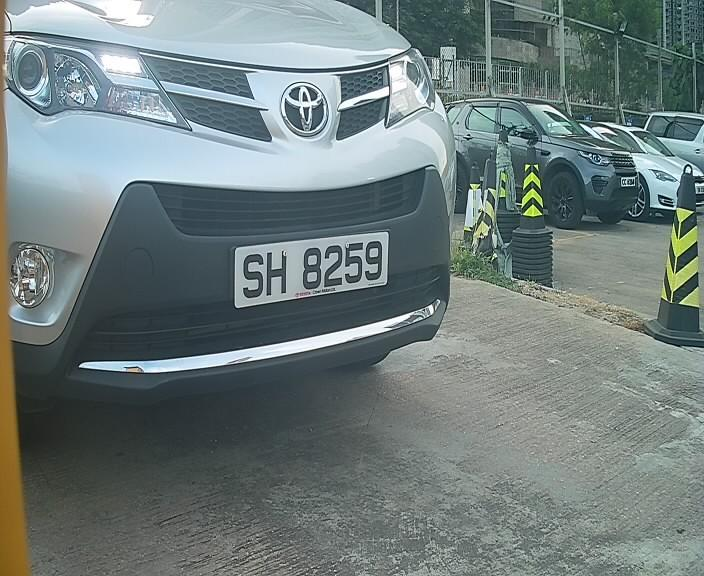privatecar: (4, 1, 525, 430)
